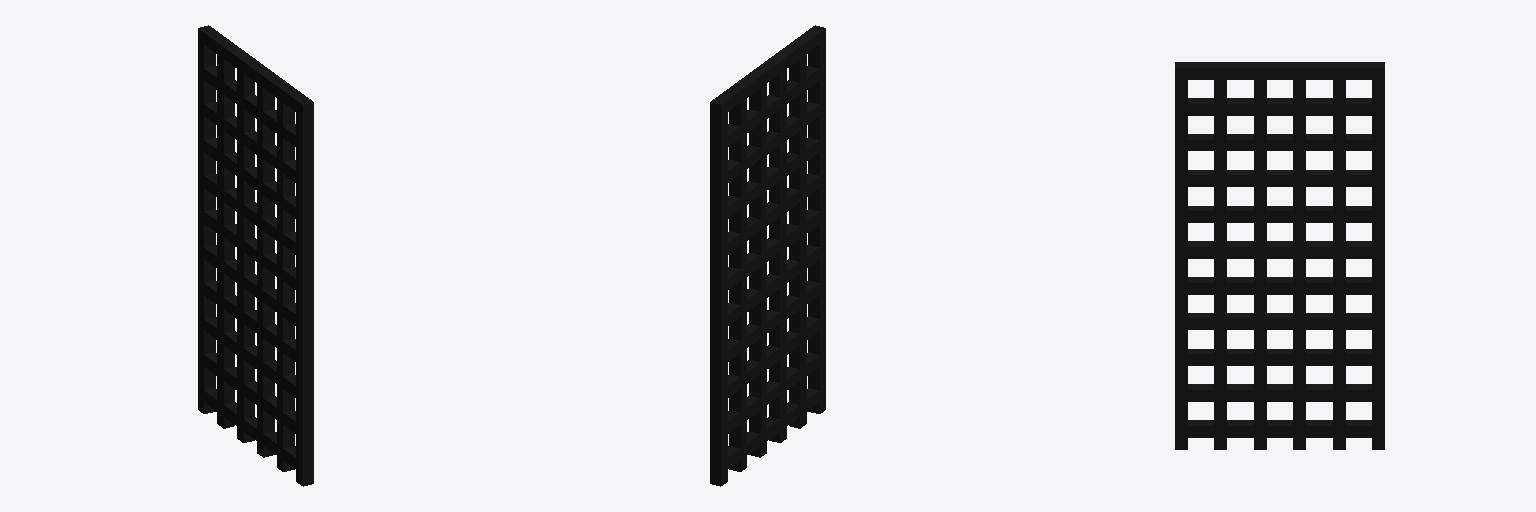
3 views of the same model, side by side, from view 1: azimuth 30°, elevation 25°; view 2: azimuth 150°, elevation 25°; view 3: azimuth 270°, elevation 25° (orthographic).
Parts seen in each view (by area): view 1: gate.001; view 2: gate.001; view 3: gate.001.
Part boxes in pixels (x1,y1,x2,y2): gate.001: (198, 25, 313, 486); gate.001: (710, 25, 825, 486); gate.001: (1175, 62, 1384, 449).
Size of the model in its own units: 0.128 by 4.1 by 2.05.
Materials: 1 (1 with a texture image).